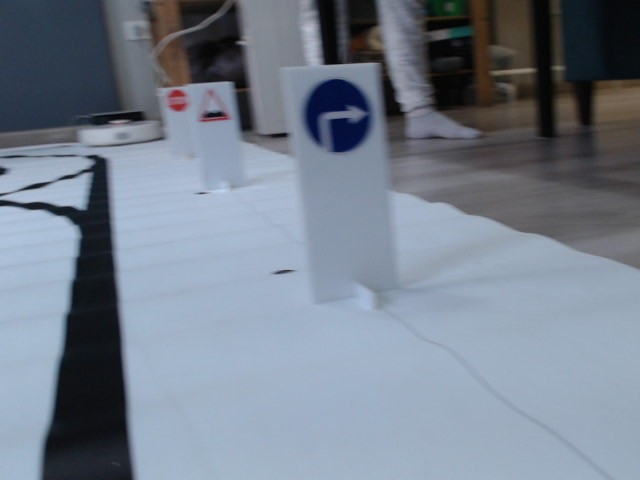Nerov: (198, 89, 230, 123)
Right: (301, 76, 372, 153)
